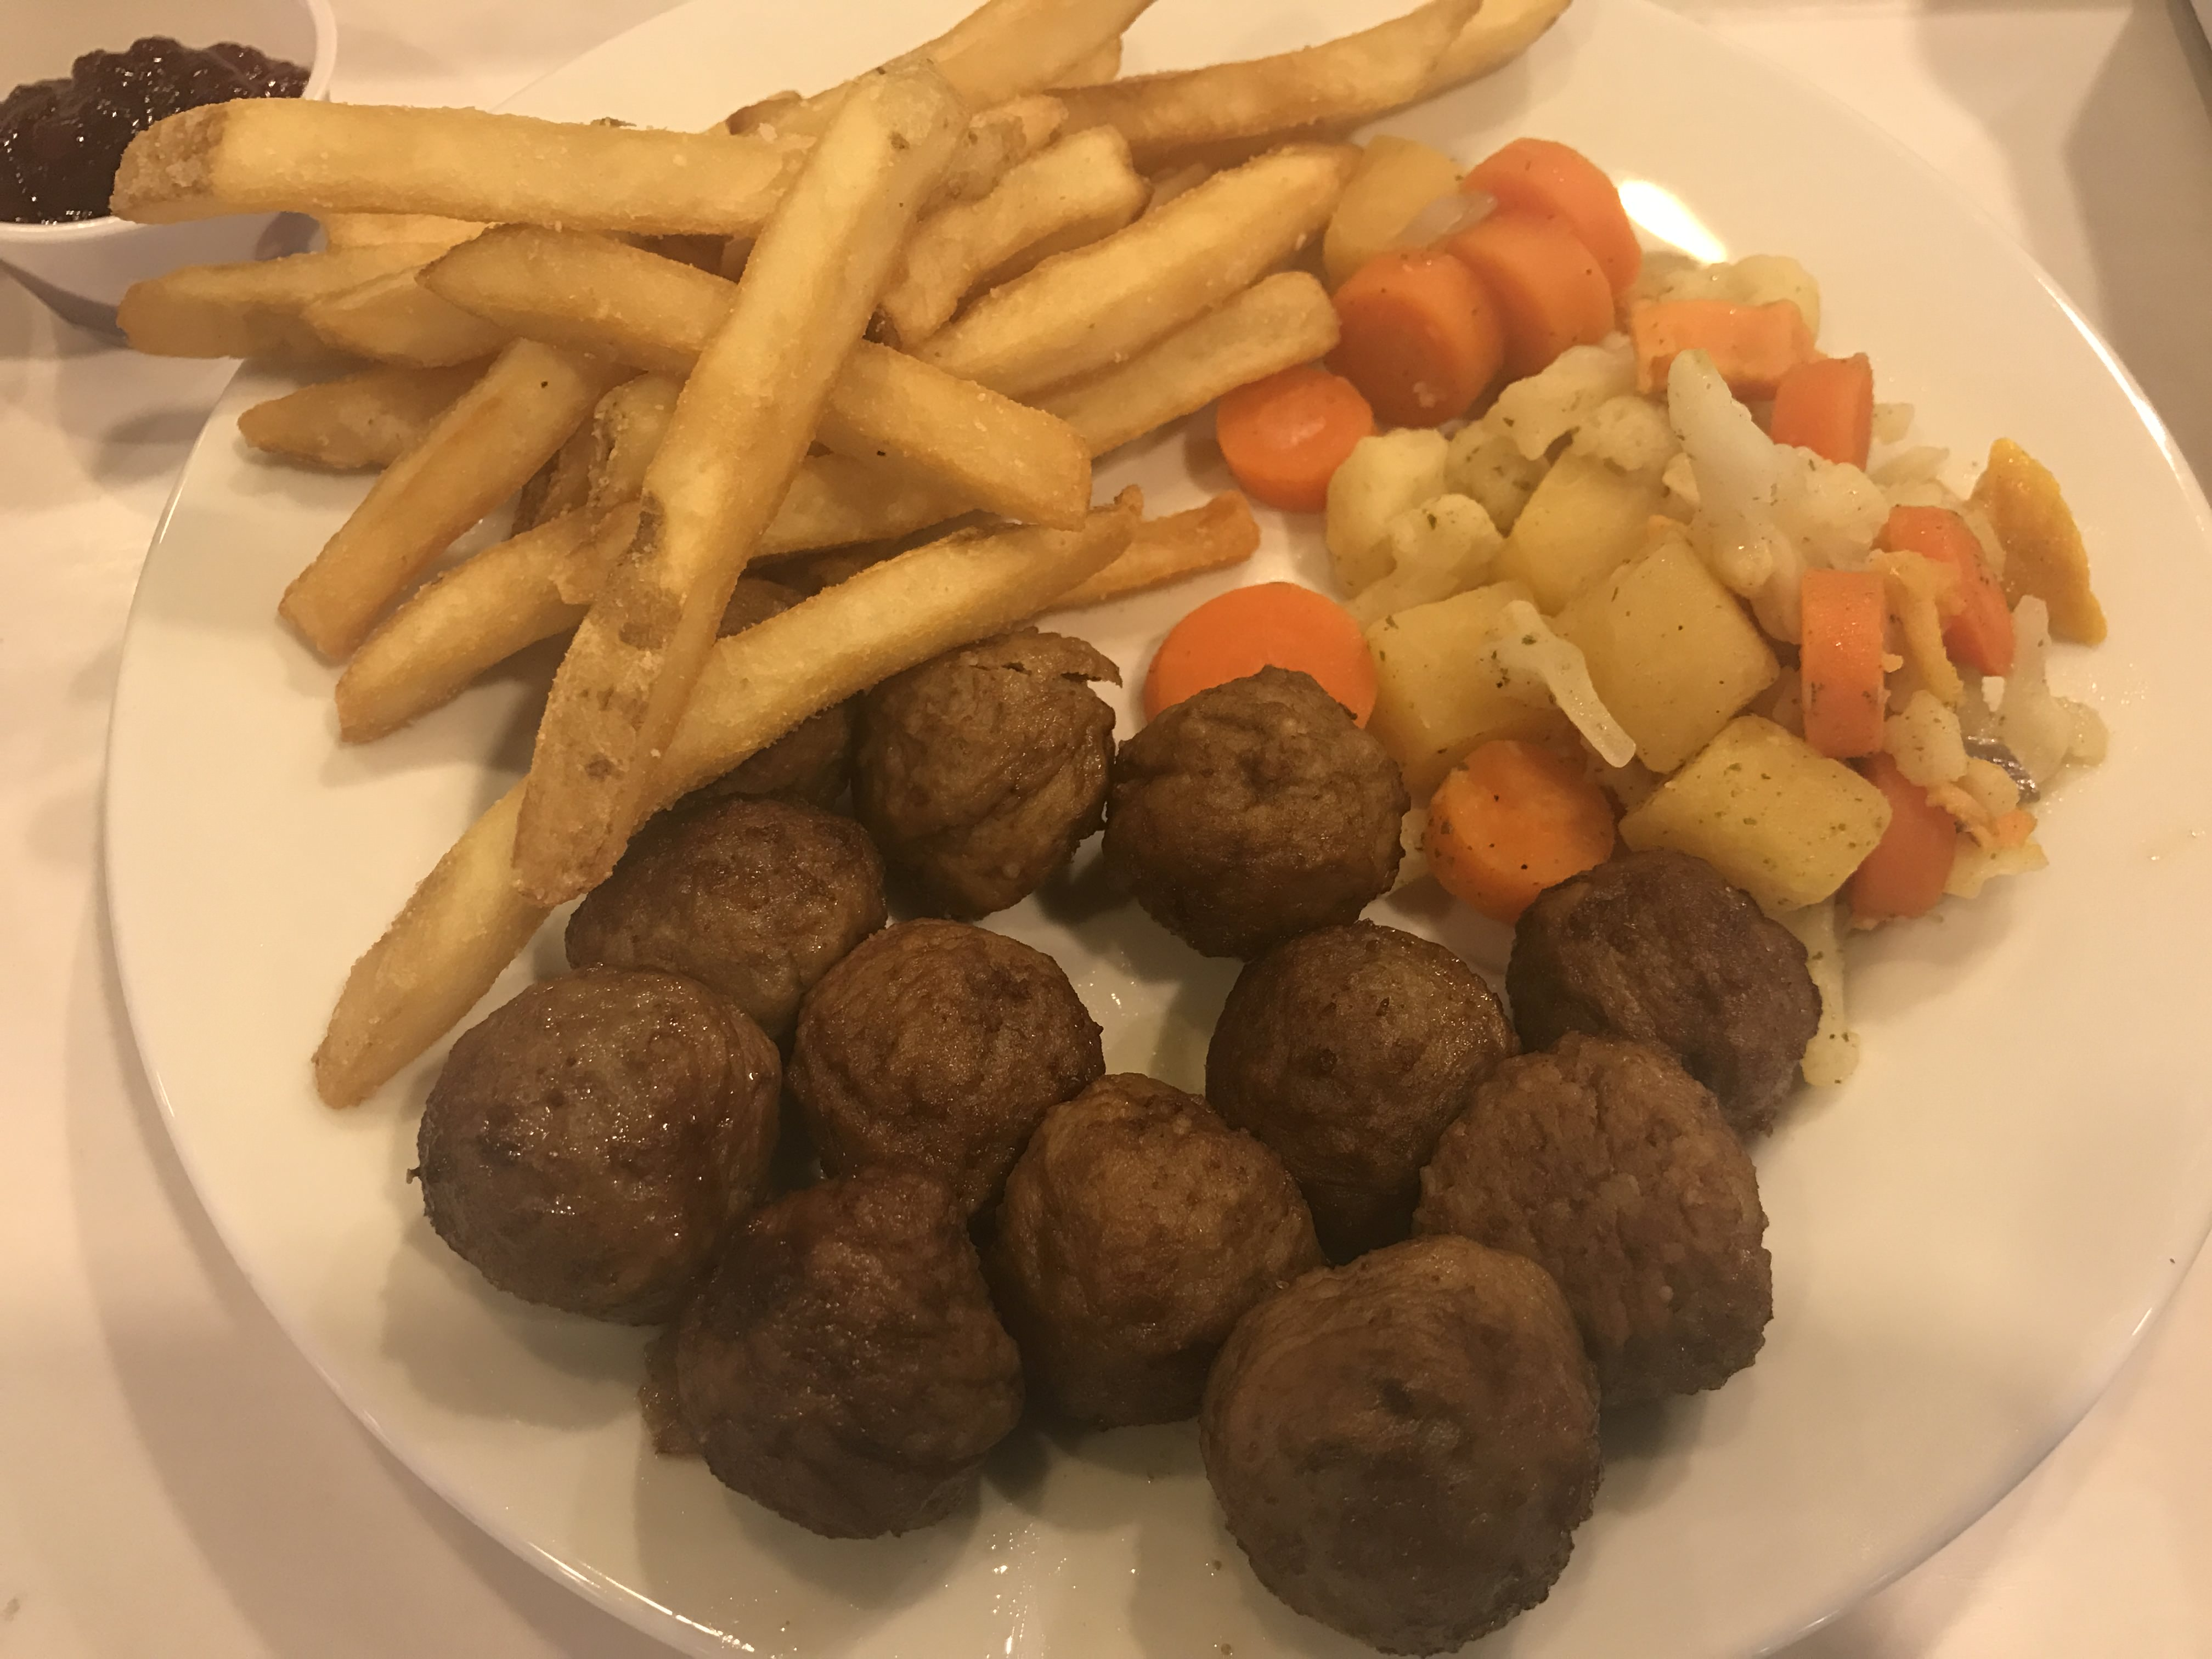meatballs: (1221, 1249, 1602, 1640), (420, 979, 777, 1321), (1437, 1054, 1752, 1378), (683, 1192, 991, 1521), (989, 1101, 1299, 1412), (1219, 938, 1498, 1229), (792, 932, 1096, 1178), (1129, 687, 1392, 934), (1526, 854, 1794, 1091), (883, 636, 1103, 889), (597, 805, 874, 1000)
